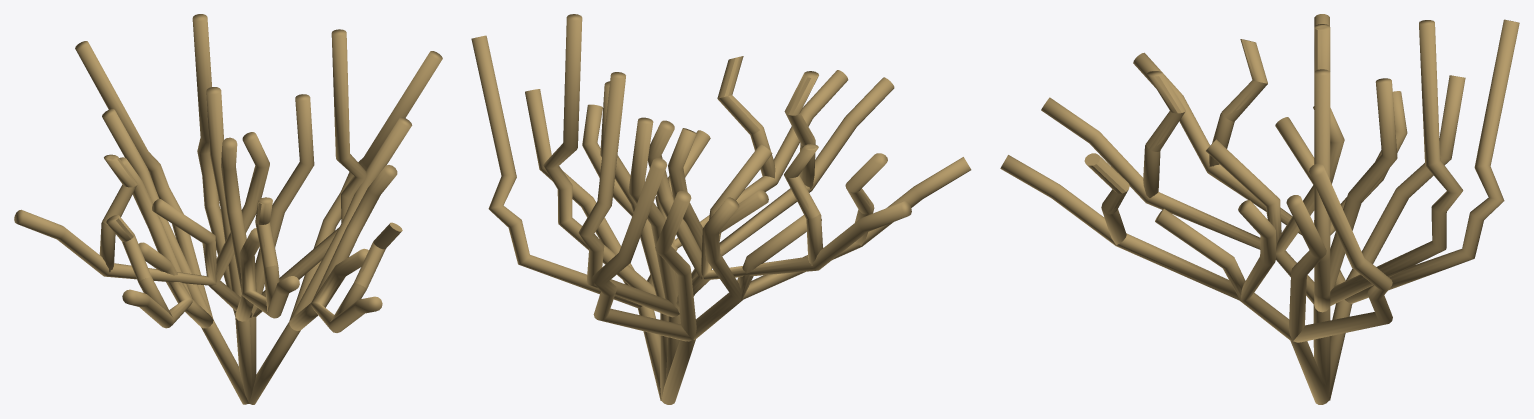
File: Arbusto1.fbx
The picture shows the model from 3 angles, left to right: view 1: azimuth 30°, elevation 25°; view 2: azimuth 150°, elevation 25°; view 3: azimuth 270°, elevation 25°; orthographic projection. The views are drawn at different scales.
Parts seen in each view (by area): view 1: arbusto_seco_1; view 2: arbusto_seco_1; view 3: arbusto_seco_1.
Boxes of the visible parts, x1=… form: arbusto_seco_1: x1=14, y1=14, x2=442, y2=404; arbusto_seco_1: x1=471, y1=14, x2=971, y2=404; arbusto_seco_1: x1=1000, y1=14, x2=1519, y2=404.
Bounding box in the file's own units: 130 × 103 × 128.
